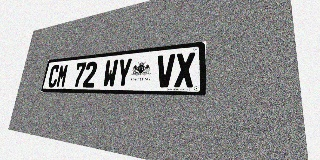2: (83, 61, 98, 87)
7: (72, 62, 87, 87)
C: (47, 65, 60, 87)
M: (56, 64, 69, 87)
V: (155, 54, 175, 87)
W: (102, 59, 119, 87)
X: (174, 52, 195, 87)
Y: (115, 58, 133, 87)
